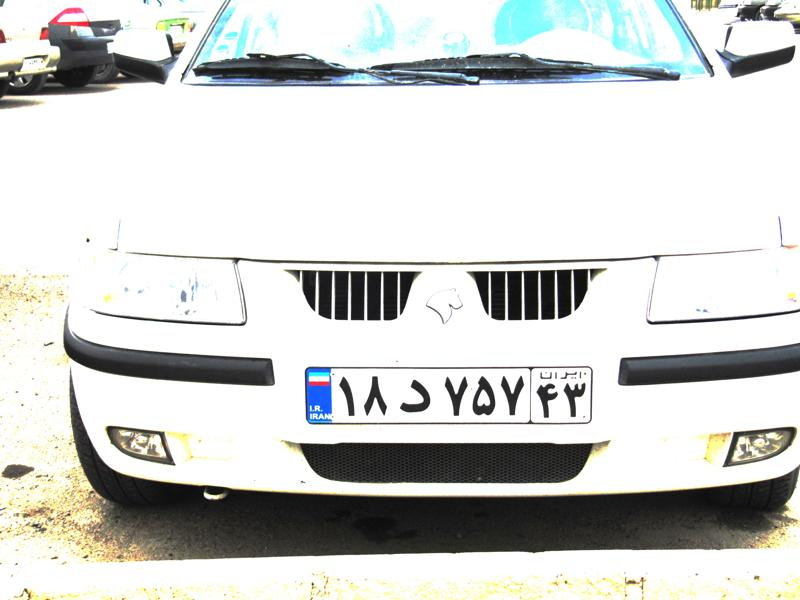Plate: (304, 361, 594, 428)
